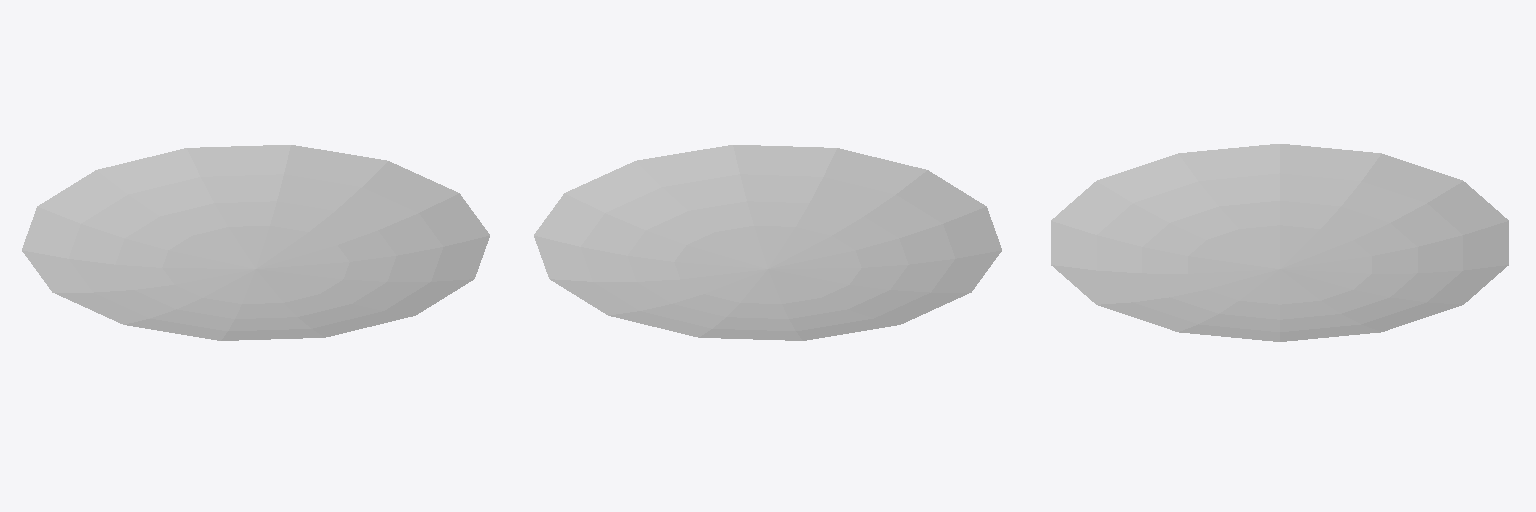
Rendered from Magic_Fabricator_2.obj.
3 views of the same model, side by side, from view 1: azimuth 30°, elevation 25°; view 2: azimuth 150°, elevation 25°; view 3: azimuth 270°, elevation 25° (orthographic).
Parts seen in each view (by area): view 1: none; view 2: none; view 3: none.
Part boxes in pixels (x1,y1,x2,y2): none: (22,145,489,340); none: (534,145,1001,340); none: (1051,144,1508,341).
Bounding box in the file's own units: 3.24 × 0.2 × 3.16.